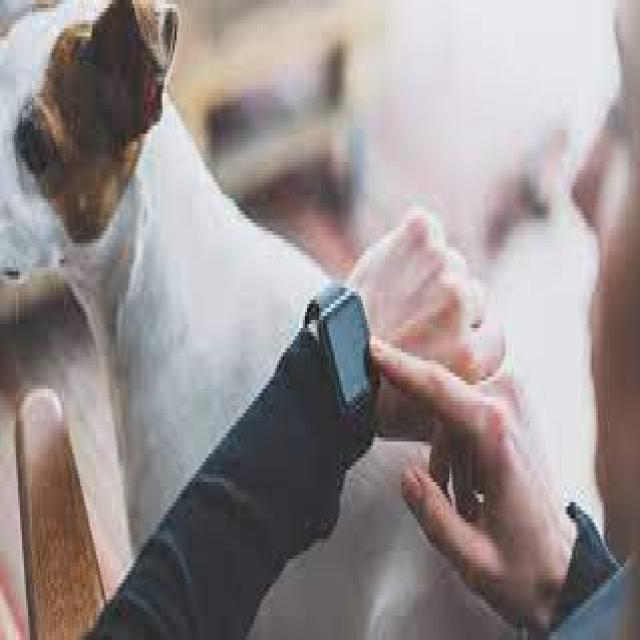objects: (292, 258, 408, 490)
